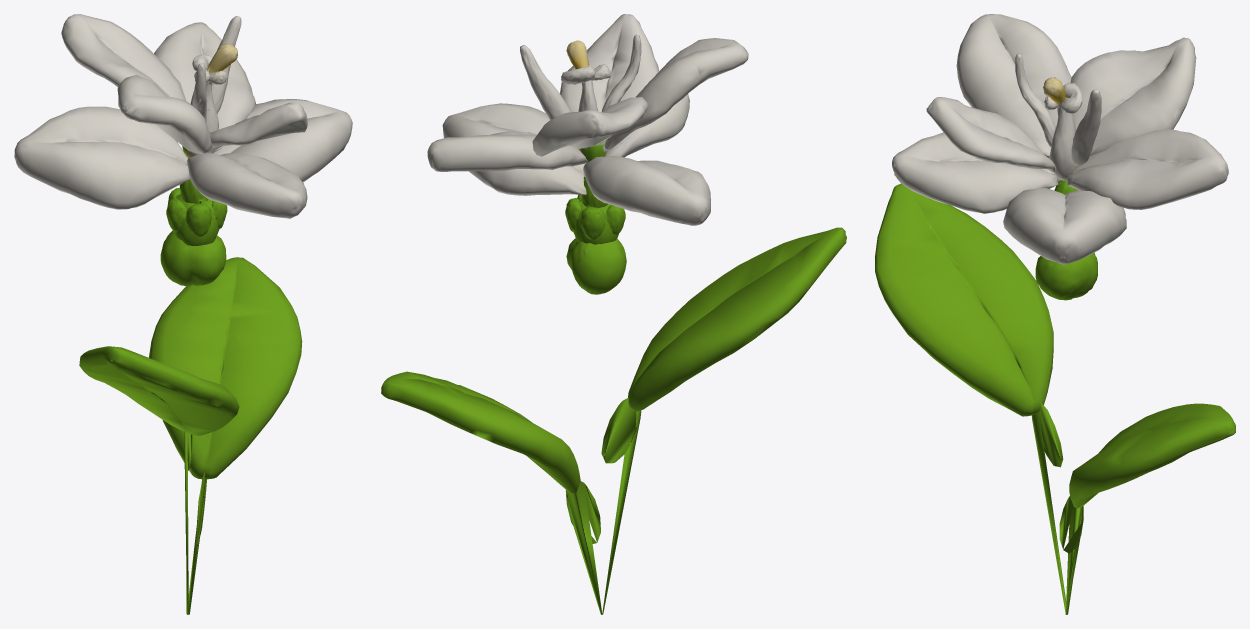
File: r33-jasmine.glb
3 views of the same model, side by side, from view 1: azimuth 30°, elevation 25°; view 2: azimuth 150°, elevation 25°; view 3: azimuth 270°, elevation 25° (orthographic). The views are drawn at different scales.
Visible parts, largest first — view 1: tripo_node_8ff7231d-1251-44ae-8ed1-7486ac36bf72; view 2: tripo_node_8ff7231d-1251-44ae-8ed1-7486ac36bf72; view 3: tripo_node_8ff7231d-1251-44ae-8ed1-7486ac36bf72.
Part boxes in pixels (x1,y1,x2,y2): tripo_node_8ff7231d-1251-44ae-8ed1-7486ac36bf72: (14, 14, 352, 614); tripo_node_8ff7231d-1251-44ae-8ed1-7486ac36bf72: (381, 14, 846, 614); tripo_node_8ff7231d-1251-44ae-8ed1-7486ac36bf72: (875, 14, 1235, 614).
Bounding box in the file's own units: 0.5918 × 0.998 × 0.5879.
Materials: 1 (1 with a texture image).
